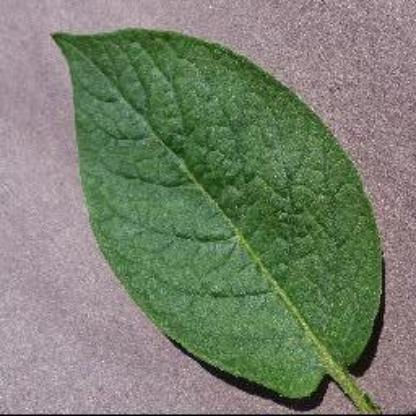Healthy-plant: (32, 25, 406, 416)
